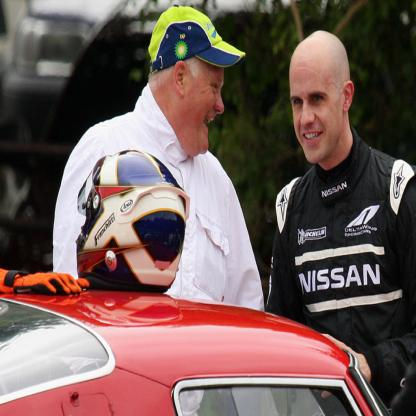Helmet: (68, 155, 191, 291)
